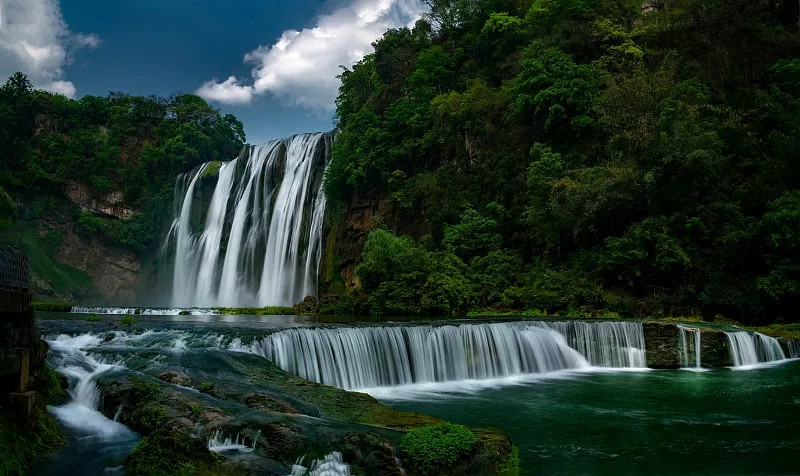Huangguoshu: (154, 130, 326, 307)
